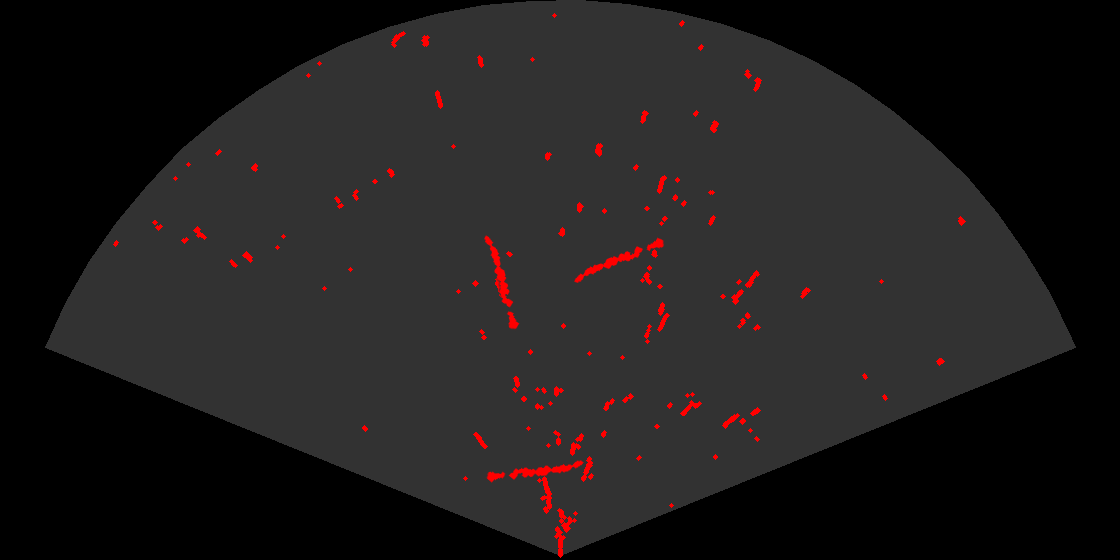chain: (573, 236, 666, 284), (483, 234, 521, 332), (485, 459, 585, 484)
